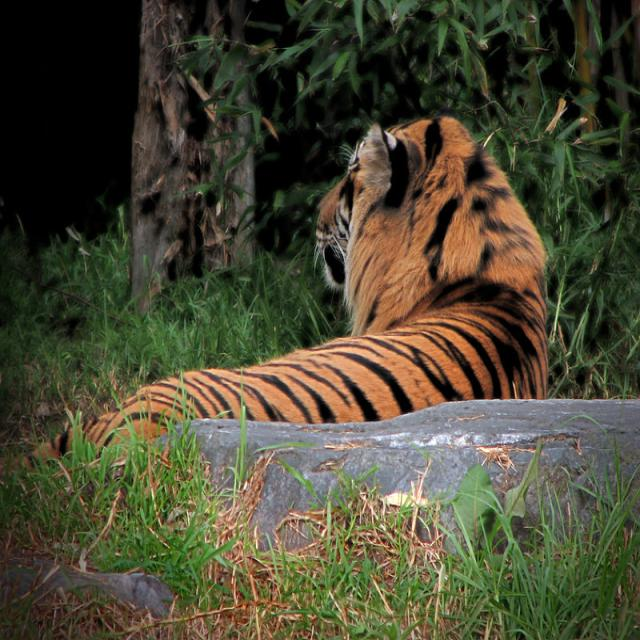Tiger: (30, 114, 548, 468)
